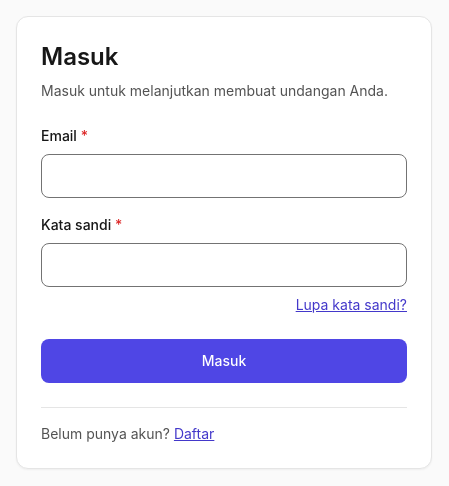
Test: accessibility (card DoD 4) › the submit button keeps focus while loading
Step 1. Type "budi@example.test" into the field labelled "Email *" → {"x": 224, "y": 176}, box [41,154,407,198]
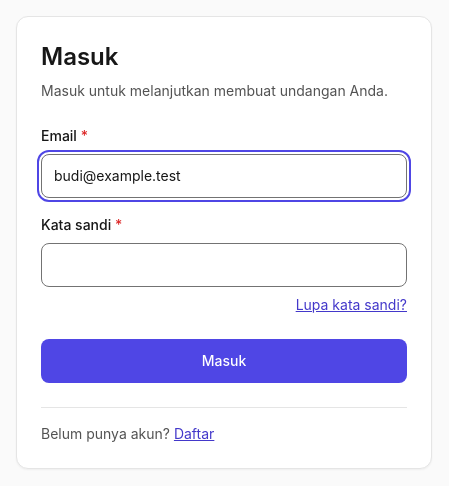
Step 2. Type "rahasia123" into the password field labelled "Kata sandi *" → {"x": 224, "y": 264}, box [41,242,407,286]
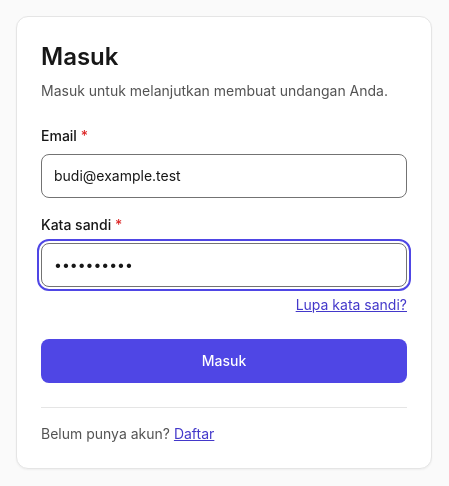
Step 3. Click the button "Masuk" → {"x": 224, "y": 360}, box [41,338,407,382]
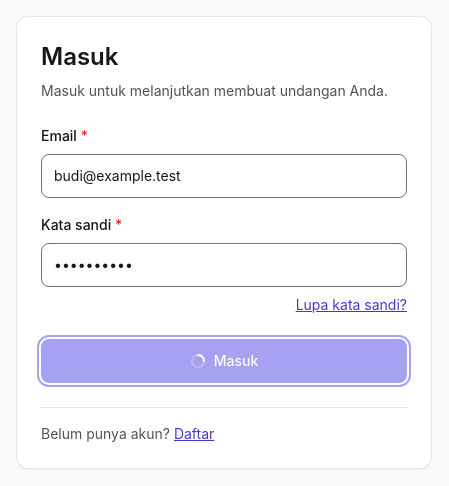
Now the button "Masuk" is enabled, box [41,338,407,382]
